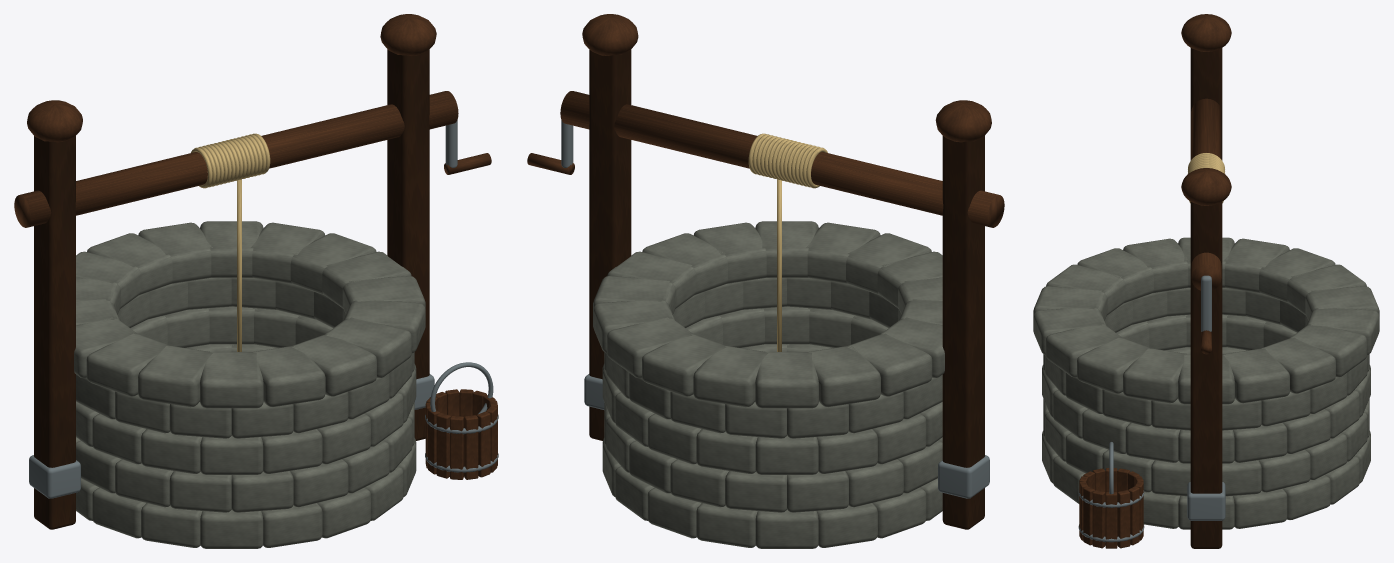
File: village_well.glb
3 views of the same model, side by side, from view 1: azimuth 30°, elevation 25°; view 2: azimuth 150°, elevation 25°; view 3: azimuth 270°, elevation 25° (orthographic). The views are drawn at different scales.
Parts seen in each view (by area): view 1: Dressed well stone.072, Winch upright.002, Post finial.002, Iron foot.002, Wound rope.016; view 2: Dressed well stone.072, Winch upright.002, Post finial.002, Wound rope.016, Iron foot.002; view 3: Dressed well stone.072, Winch upright.002, Post finial.002, Iron foot.002, Wound rope.016.
Boxes of the visible parts, x1,y1,x2,y2 form: Dressed well stone.072: [74, 221, 425, 548]; Winch upright.002: [34, 49, 429, 529]; Post finial.002: [14, 14, 497, 479]; Iron foot.002: [29, 120, 498, 498]; Wound rope.016: [191, 133, 270, 351]; Dressed well stone.072: [593, 221, 944, 548]; Winch upright.002: [589, 49, 984, 529]; Post finial.002: [527, 14, 1004, 227]; Wound rope.016: [748, 133, 827, 351]; Iron foot.002: [561, 120, 989, 498]; Dressed well stone.072: [1033, 237, 1379, 529]; Winch upright.002: [1190, 48, 1222, 548]; Post finial.002: [1079, 14, 1231, 548]; Iron foot.002: [1078, 275, 1225, 542]; Wound rope.016: [1188, 153, 1224, 203].
Bounding box in the file's own units: 3.03 × 2.6 × 2.19.
Materials: 6 (4 with a texture image).
